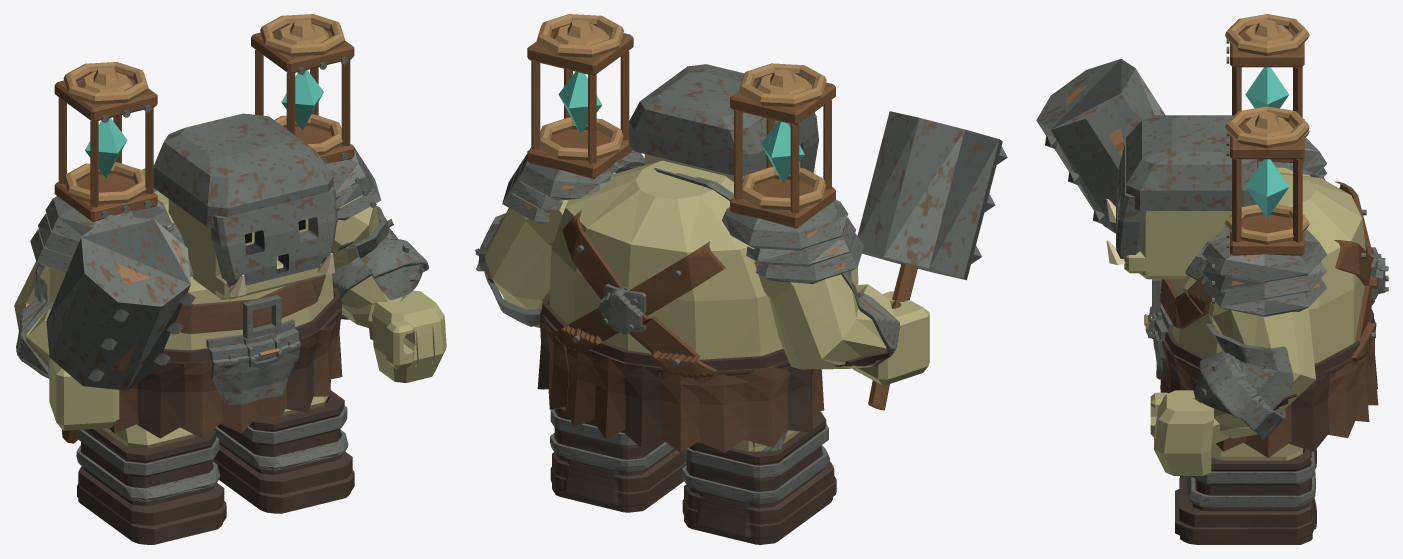
The model's file is host_43.glb.
The picture shows the model from 3 angles, left to right: view 1: azimuth 30°, elevation 25°; view 2: azimuth 150°, elevation 25°; view 3: azimuth 270°, elevation 25°; orthographic projection. The views are drawn at different scales.
Visible parts, largest first — view 1: Helmet real mask and roof, Weapon — source iron thick broad iron truncheon, Clothing — broad source ragged leather skirt, Boot — source armor 1, Body — continuous source torso, four joints and planted legs, Boot — source armor -1, Hand — LEFT connected source fist and wrist, Waist — source real angular steel apron plate, Source soul final — exposed transverse chest leather below a, Hand — RIGHT source compact planar grasp, Source imprisoned-soul — broad slanted LEFT bracer, Head — complete continuous skull and neck (+34 smaller); view 2: Body — continuous source torso, four joints and planted legs, Clothing — broad source ragged leather skirt, Weapon — source iron thick broad iron truncheon, Helmet real mask and roof, Boot — source armor 1, Boot — source armor -1, Source back harness — shoulder to opposite hip 1, Source back harness — shoulder to opposite hip -1, Shoulder — 1 overlapping tier 1, Hand — RIGHT source compact planar grasp, Clothing — fitted thin leather waist belt, Shoulder — -1 overlapping tier 1 (+30 smaller); view 3: Body — continuous source torso, four joints and planted legs, Helmet real mask and roof, Weapon — source iron thick broad iron truncheon, Boot — source armor -1, Clothing — broad source ragged leather skirt, Source imprisoned-soul — broad slanted LEFT bracer, Hand — LEFT connected source fist and wrist, Head — complete continuous skull and neck, Shoulder — -1 overlapping tier 1, Shoulder — -1 overlapping tier 3, Shoulder — -1 overlapping tier 2, V4 source boot — seated broad ankle fastening -1 0 (+25 smaller).
Part boxes in pixels (x1=…): Helmet real mask and roof: x1=153, y1=113, x2=337, y2=287; Weapon — source iron thick broad iron truncheon: x1=46, y1=215, x2=190, y2=390; Clothing — broad source ragged leather skirt: x1=109, y1=298, x2=342, y2=438; Boot — source armor 1: x1=77, y1=428, x2=226, y2=544; Body — continuous source torso, four joints and planted legs: x1=14, y1=168, x2=390, y2=448; Boot — source armor -1: x1=212, y1=390, x2=354, y2=513; Hand — LEFT connected source fist and wrist: x1=368, y1=290, x2=446, y2=382; Waist — source real angular steel apron plate: x1=206, y1=319, x2=300, y2=404; Source soul final — exposed transverse chest leather below a: x1=175, y1=275, x2=325, y2=333; Hand — RIGHT source compact planar grasp: x1=49, y1=358, x2=119, y2=430; Source imprisoned-soul — broad slanted LEFT bracer: x1=354, y1=206, x2=429, y2=300; Head — complete continuous skull and neck: x1=168, y1=199, x2=308, y2=299; Body — continuous source torso, four joints and planted legs: x1=484, y1=160, x2=895, y2=451; Clothing — broad source ragged leather skirt: x1=537, y1=306, x2=824, y2=452; Weapon — source iron thick broad iron truncheon: x1=857, y1=111, x2=1002, y2=280; Helmet real mask and roof: x1=628, y1=64, x2=818, y2=176; Boot — source armor 1: x1=682, y1=411, x2=836, y2=544; Boot — source armor -1: x1=550, y1=407, x2=686, y2=512; Source back harness — shoulder to opposite hip 1: x1=562, y1=210, x2=717, y2=379; Source back harness — shoulder to opposite hip -1: x1=554, y1=241, x2=725, y2=353; Shoulder — 1 overlapping tier 1: x1=722, y1=199, x2=848, y2=250; Hand — RIGHT source compact planar grasp: x1=852, y1=291, x2=929, y2=385; Clothing — fitted thin leather waist belt: x1=484, y1=267, x2=893, y2=370; Shoulder — -1 overlapping tier 1: x1=518, y1=147, x2=644, y2=200; Body — continuous source torso, four joints and planted legs: x1=1169, y1=167, x2=1365, y2=460; Helmet real mask and roof: x1=1116, y1=115, x2=1258, y2=258; Weapon — source iron thick broad iron truncheon: x1=1036, y1=59, x2=1165, y2=233; Boot — source armor -1: x1=1175, y1=448, x2=1316, y2=544; Clothing — broad source ragged leather skirt: x1=1160, y1=319, x2=1378, y2=457; Source imprisoned-soul — broad slanted LEFT bracer: x1=1193, y1=323, x2=1293, y2=417; Hand — LEFT connected source fist and wrist: x1=1150, y1=390, x2=1229, y2=475; Head — complete continuous skull and neck: x1=1139, y1=211, x2=1231, y2=279; Shoulder — -1 overlapping tier 1: x1=1202, y1=226, x2=1326, y2=282; Shoulder — -1 overlapping tier 3: x1=1202, y1=278, x2=1326, y2=316; Shoulder — -1 overlapping tier 2: x1=1202, y1=261, x2=1327, y2=299; V4 source boot — seated broad ankle fastening -1 0: x1=1186, y1=458, x2=1315, y2=507.
Bounding box in the file's own units: 4.93 × 4.98 × 3.71.
17 materials, 15 textured.
